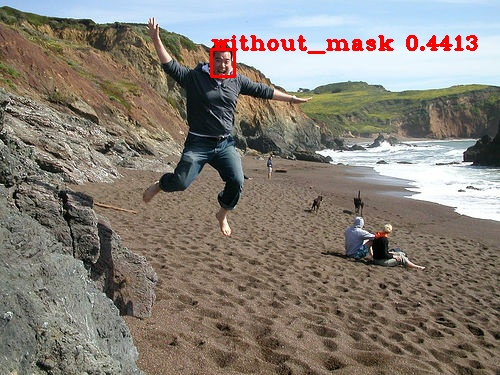without_mask: (206, 44, 236, 82)
